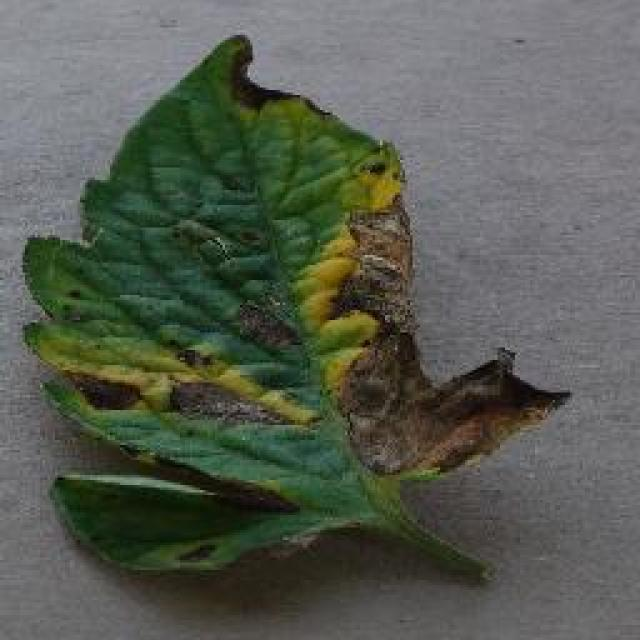Tomato___Early_blight: (21, 31, 581, 586)
